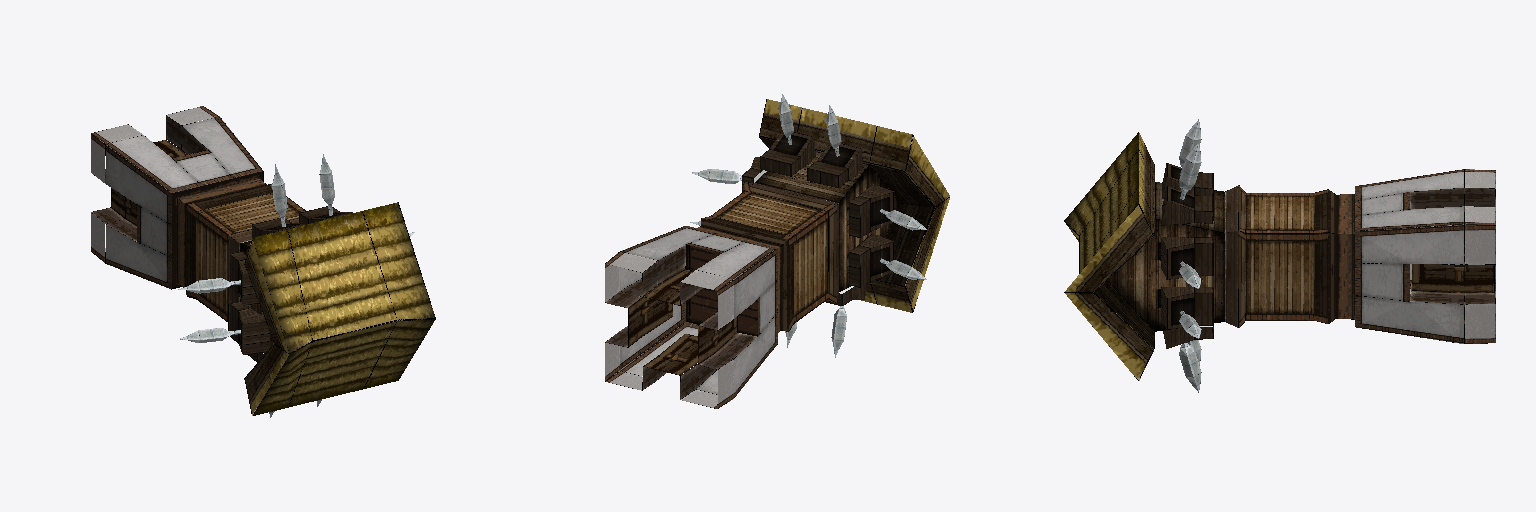
The picture shows the model from 3 angles: view 1: azimuth 30°, elevation 25°; view 2: azimuth 150°, elevation 25°; view 3: azimuth 270°, elevation 25°; orthographic projection.
Parts seen in each view (by area): view 1: cube1_extract30; view 2: cube1_extract30; view 3: cube1_extract30.
Part boxes in pixels (x1,y1,x2,y2): cube1_extract30: (91, 106, 435, 417); cube1_extract30: (605, 94, 949, 408); cube1_extract30: (1064, 119, 1495, 392).
Bounding box in the file's own units: 1.22 × 1.25 × 1.92.
2 materials, 1 textured.